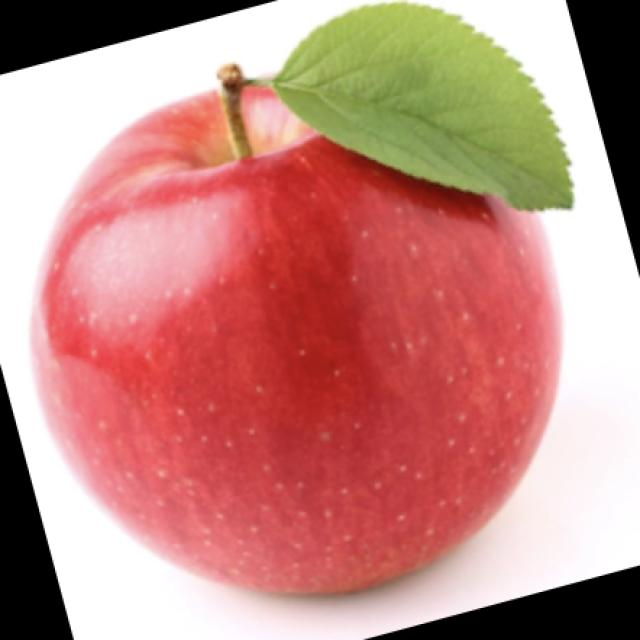organik: (24, 43, 576, 583)
